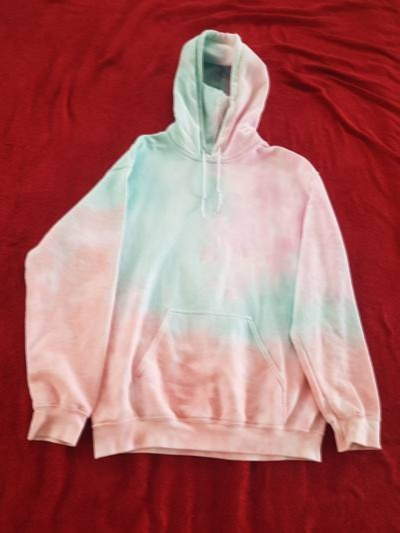Hoodie: (27, 34, 369, 472)
